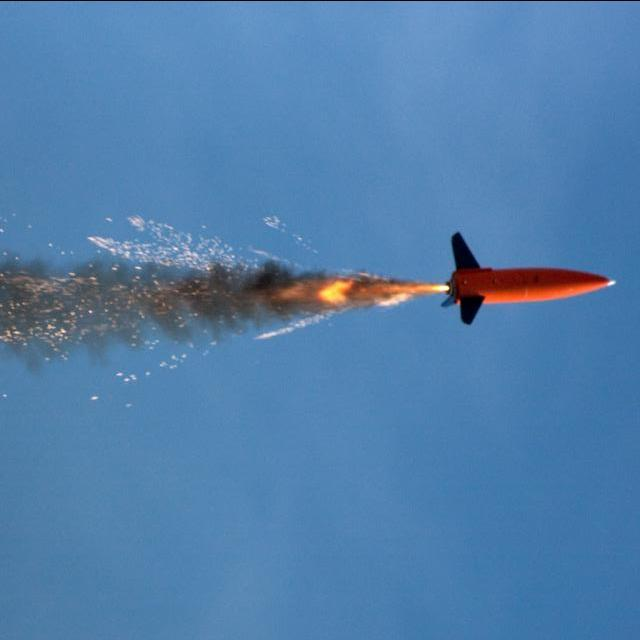missile: (439, 261, 629, 305)
